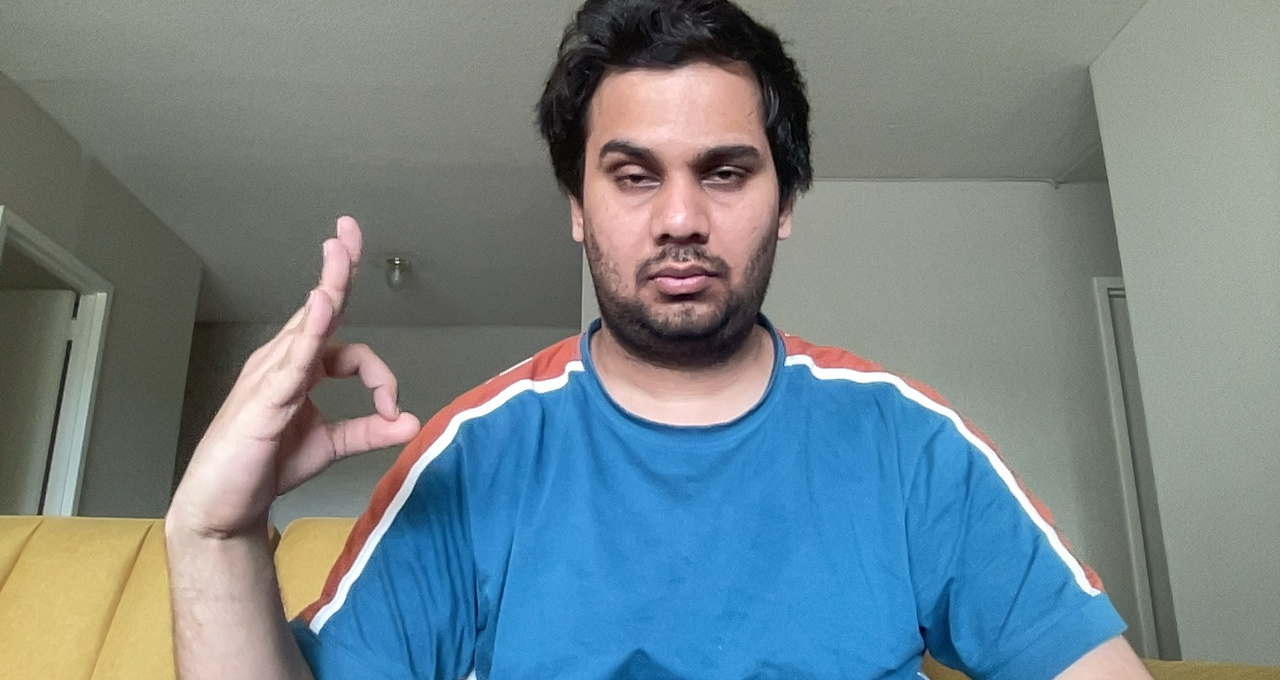ok: (200, 194, 431, 540)
